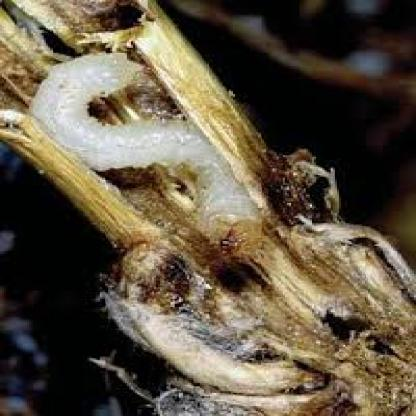sawfly: (32, 45, 276, 258)
